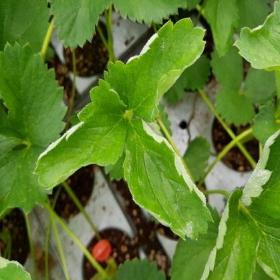Powdery Mildew Leaf: (122, 113, 213, 243), (102, 17, 206, 123), (32, 78, 129, 189), (200, 187, 261, 279), (241, 126, 279, 229), (233, 0, 279, 72)
